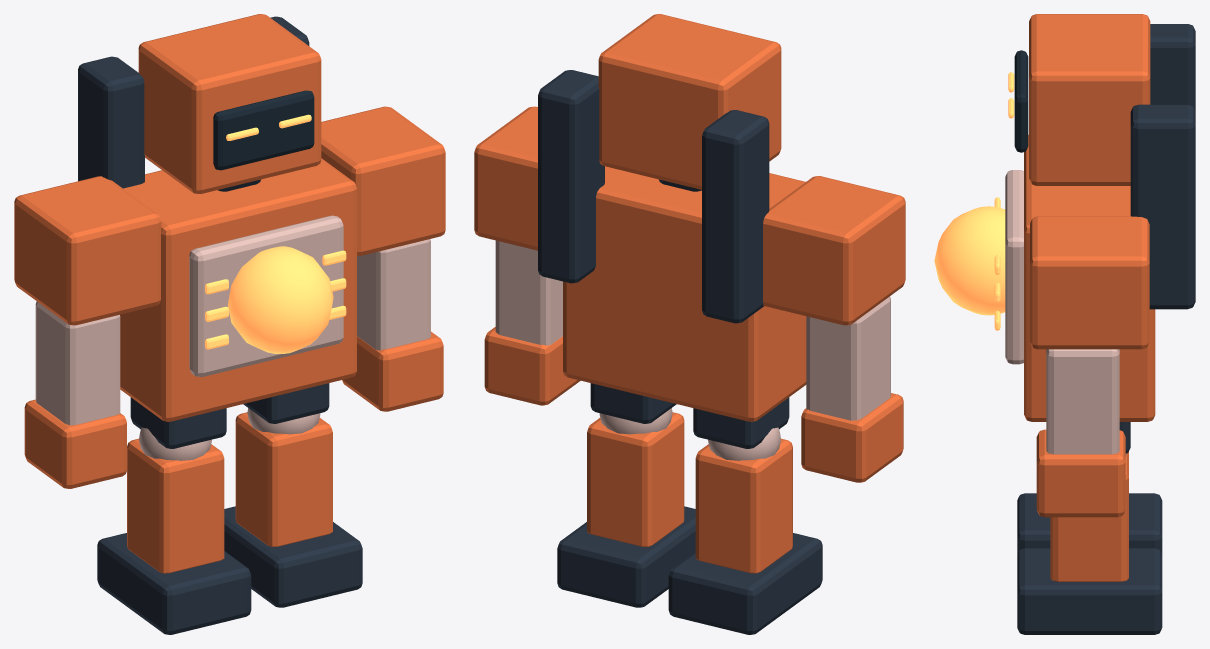
The model's file is world_2.glb.
3 views of the same model, side by side, from view 1: azimuth 30°, elevation 25°; view 2: azimuth 150°, elevation 25°; view 3: azimuth 270°, elevation 25° (orthographic).
Parts seen in each view (by area): view 1: Helion export; view 2: Helion export; view 3: Helion export.
Part boxes in pixels (left/top/right/bottom): Helion export: left=14, top=14, right=445, bottom=634; Helion export: left=474, top=14, right=905, bottom=634; Helion export: left=934, top=14, right=1195, bottom=634.
Bounding box in the file's own units: 2.6 × 3.53 × 1.53.
